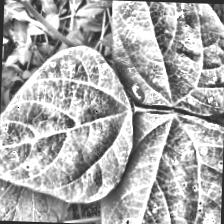Bean Rust: (0, 50, 138, 203), (98, 106, 224, 224), (105, 0, 224, 113)
